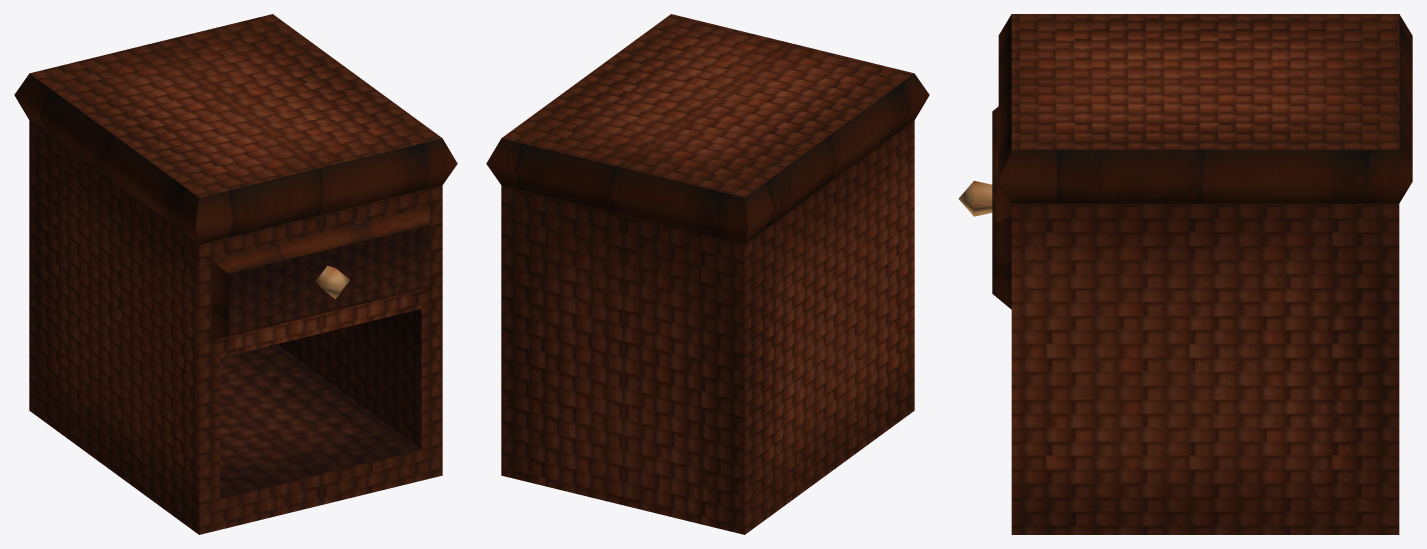
The model's file is Rattan_NightStand_01.FBX.
3 renders of one model, left to right at view 1: azimuth 30°, elevation 25°; view 2: azimuth 150°, elevation 25°; view 3: azimuth 270°, elevation 25°, orthographic. The views are drawn at different scales.
Parts seen in each view (by area): view 1: Rattan_NightStand_01; view 2: Rattan_NightStand_01; view 3: Rattan_NightStand_01.
Boxes of the visible parts, x1,y1,x2,y2 form: Rattan_NightStand_01: (14, 14, 457, 534); Rattan_NightStand_01: (486, 14, 929, 534); Rattan_NightStand_01: (958, 14, 1412, 534).
Size of the model in its own units: 0.5698 by 0.7482 by 0.7005.
